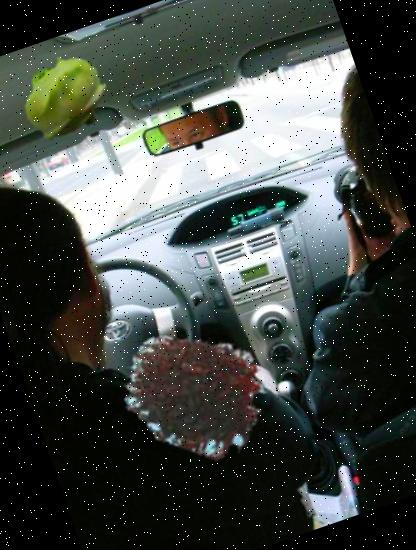Kohlrabi: (8, 40, 122, 154)
Rambutan: (100, 296, 289, 486)
